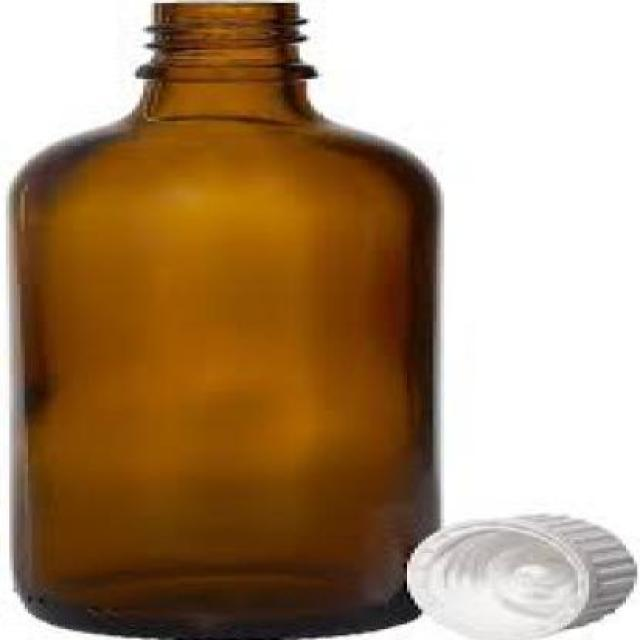kaca: (6, 0, 433, 635)
